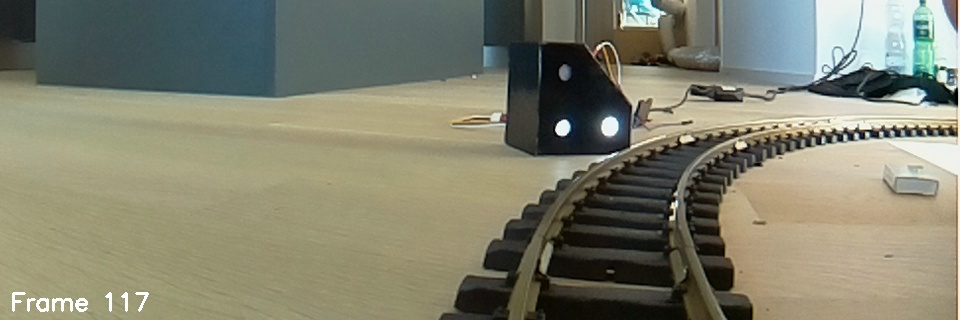Halt: (505, 40, 636, 157)
